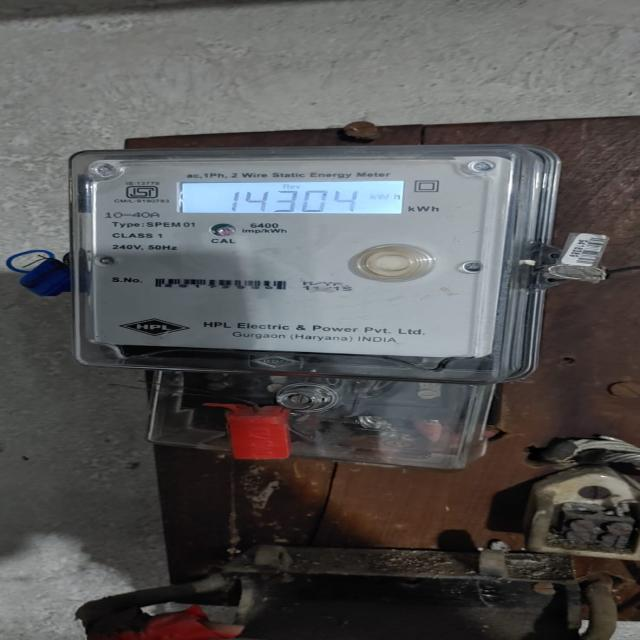display: (177, 180, 417, 218)
